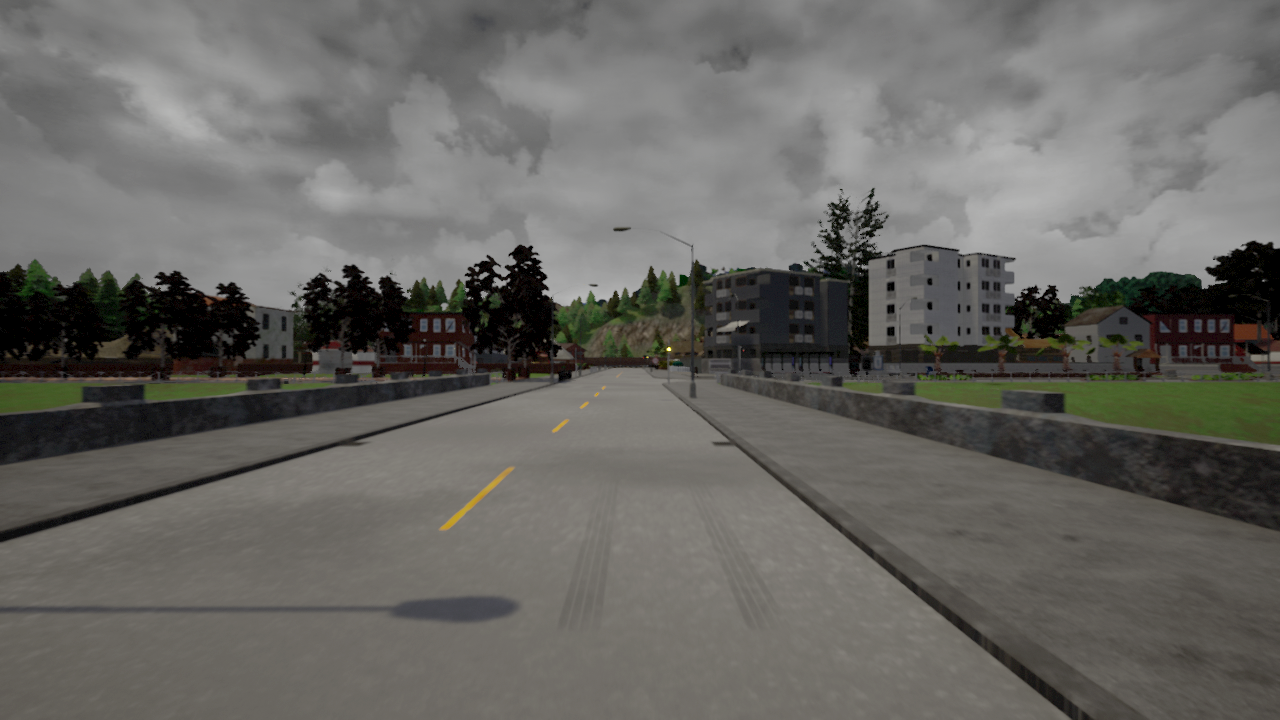yellow: (665, 342, 672, 356)
